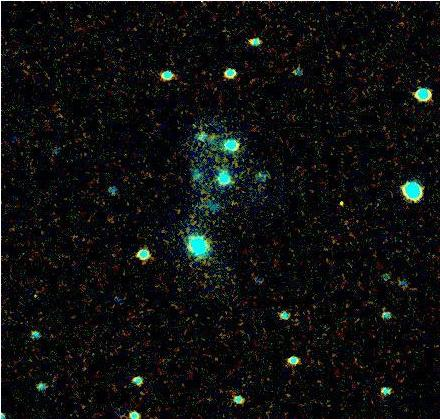star: (327, 189, 357, 219)
